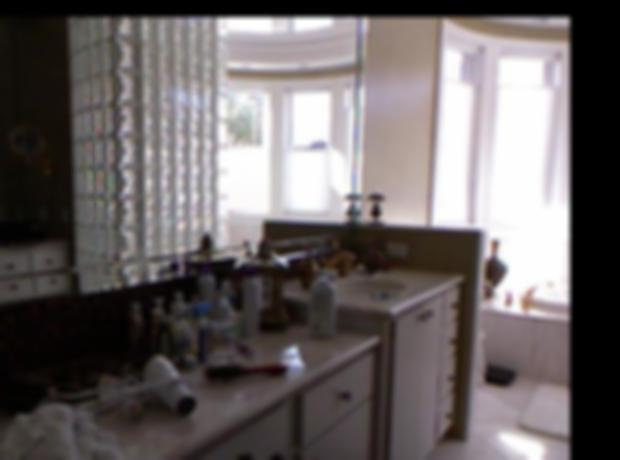Armario: (421, 273, 569, 383), (298, 240, 413, 317)
